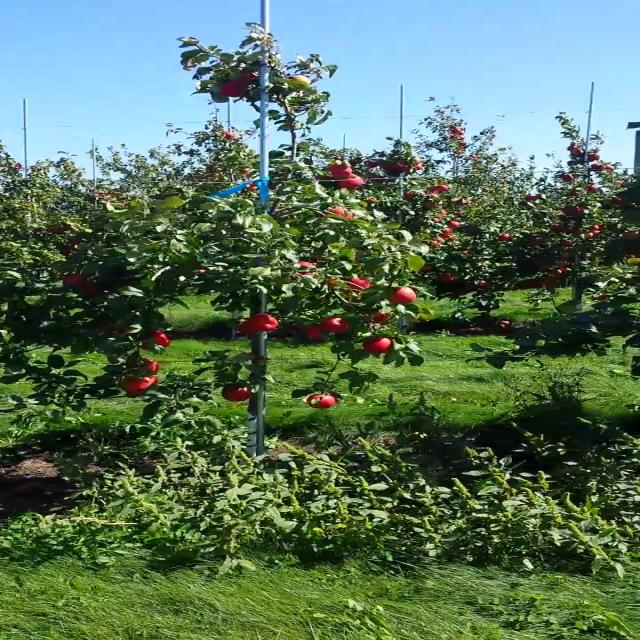apple: (122, 375, 156, 395), (387, 286, 415, 304), (252, 313, 280, 331), (361, 336, 389, 352), (222, 386, 252, 400), (338, 175, 364, 189), (323, 318, 349, 332), (327, 165, 351, 179), (307, 394, 335, 406), (221, 82, 243, 96), (137, 358, 159, 372), (152, 330, 169, 348), (324, 208, 354, 218), (371, 309, 391, 323), (348, 278, 370, 290), (239, 320, 259, 332), (241, 72, 259, 84), (306, 326, 324, 338), (289, 74, 310, 84), (63, 275, 82, 285), (45, 228, 64, 234), (82, 284, 96, 291), (299, 261, 313, 267), (138, 342, 148, 349), (298, 271, 314, 275), (196, 269, 206, 275)
